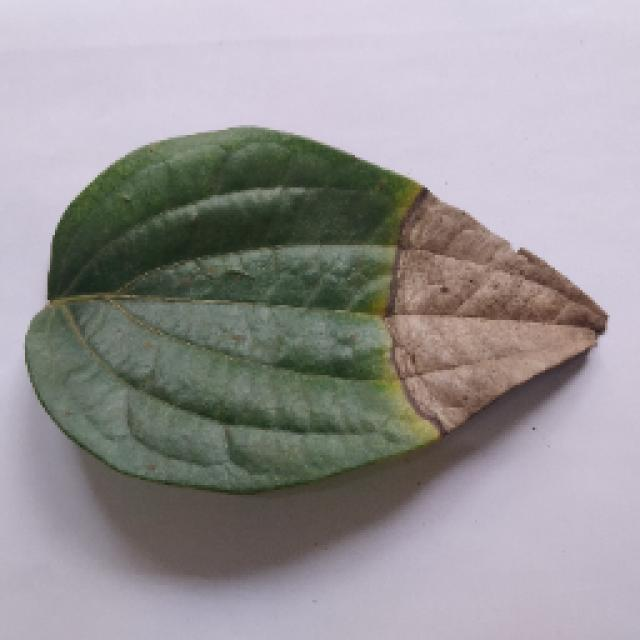footrot: (20, 135, 598, 515)
